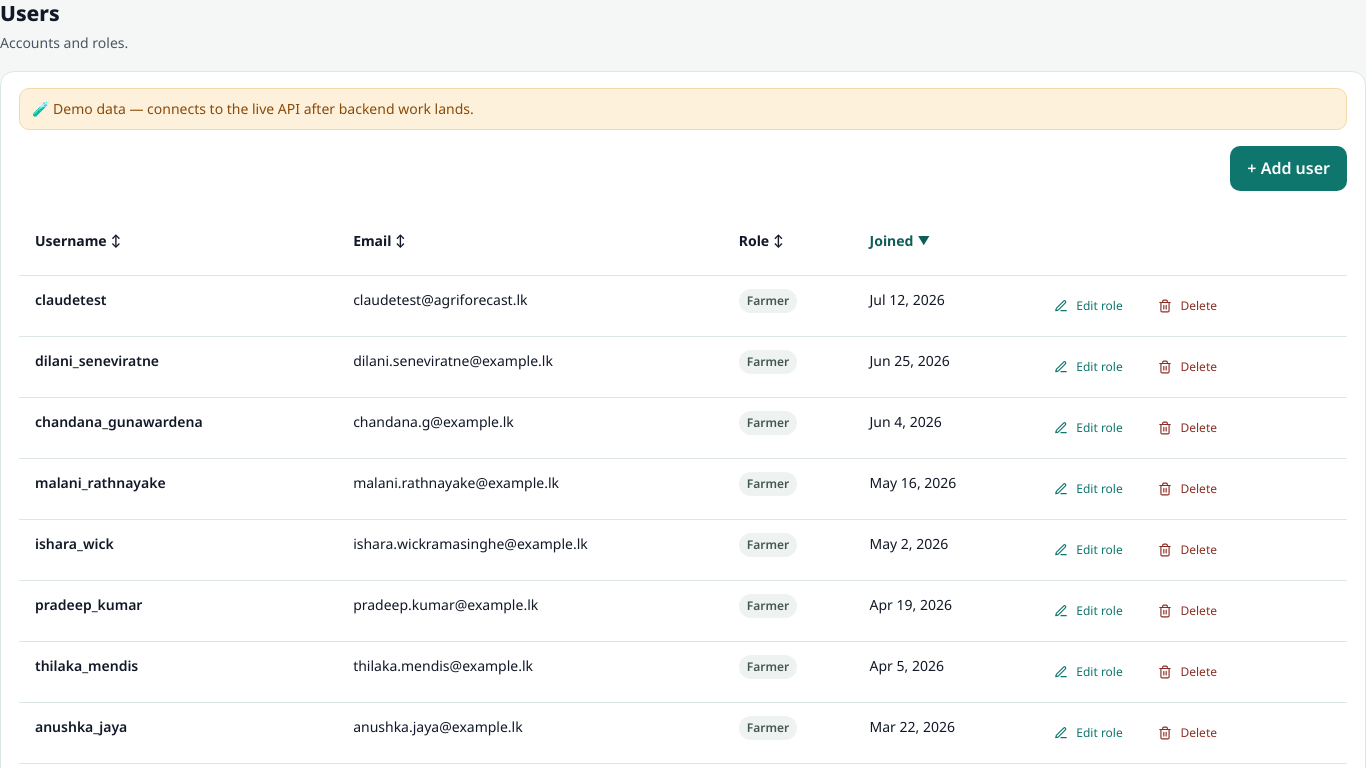
Scenario: UsersPage — add user › opens a dialog with username, email, password and a role selector defaulting to Farmer
Expected: the text "claudetest" is shown, [35,290,106,309]
Step 1. Click the button "+ Add user" → click(1289, 168), box [1230,146,1347,191]
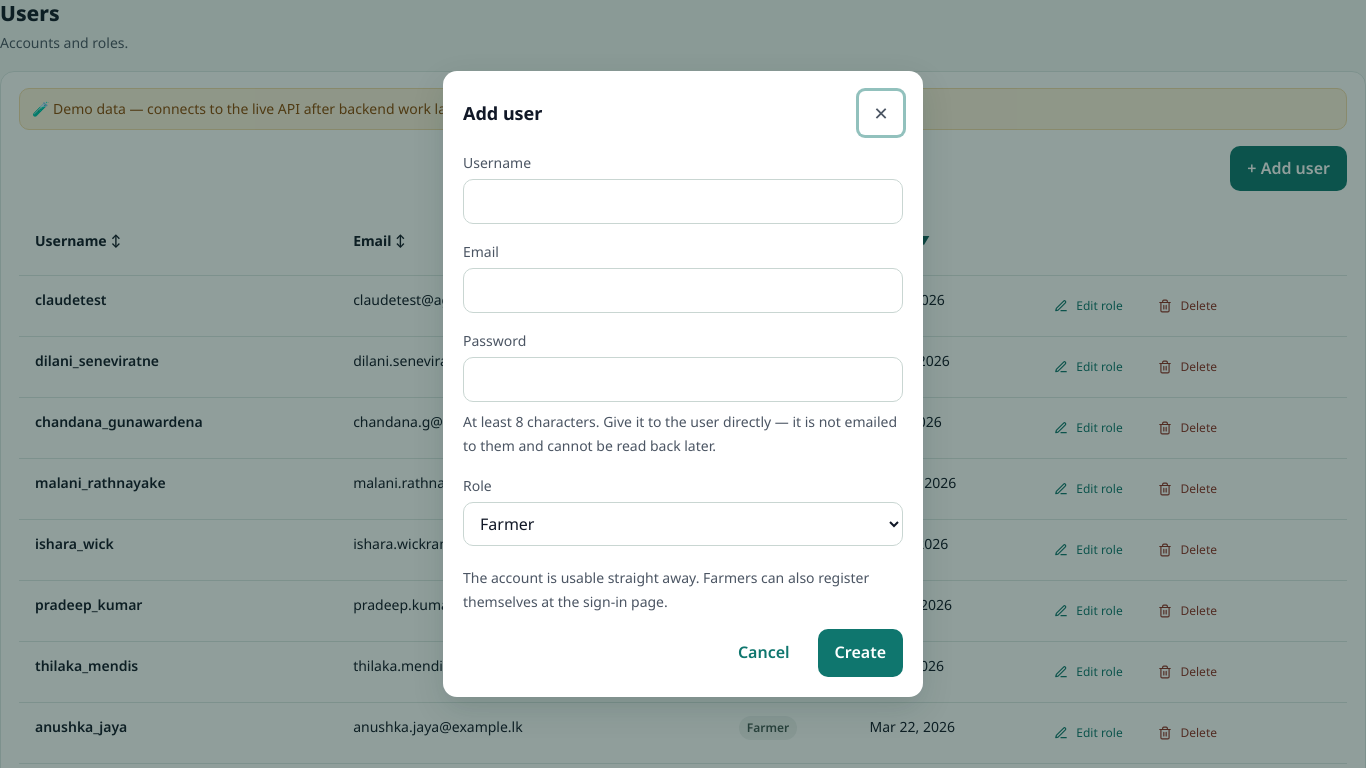
Now the dropdown labelled "Role" shows "Farmer", box [463,502,903,546]
